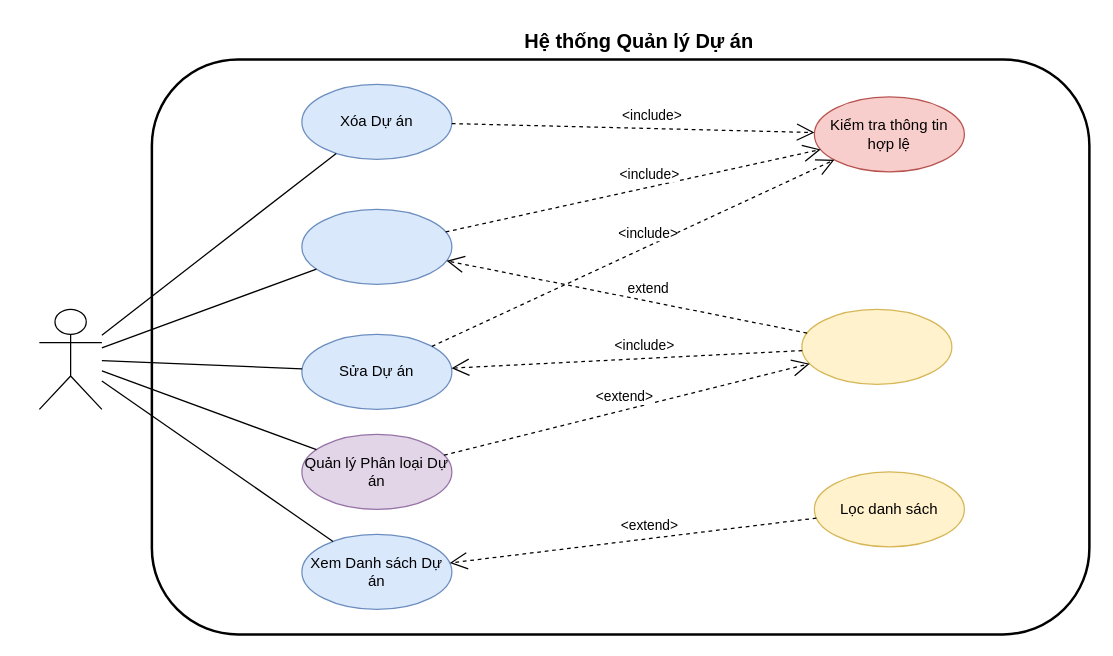
The diagram is 1113 pixels wide and 656 high, and some of its shapes have lost their labels. The box of each missing label's shape, as (x1, y1, x2, y2) in pixels:
Quản lý Dự án: (38, 308, 102, 409)
Tạo Dự án: (301, 208, 452, 284)
Tạo Phân loại Mới: (801, 308, 952, 384)
